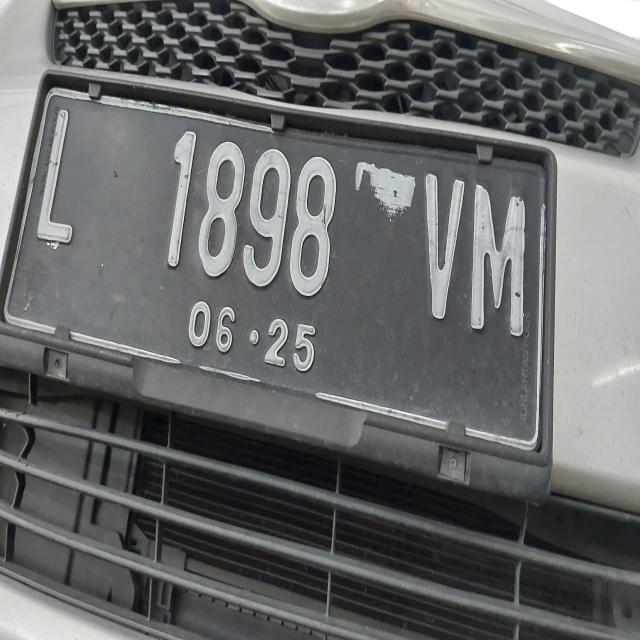1: (162, 102, 202, 292)
8: (286, 134, 344, 302), (197, 115, 246, 294)
9: (243, 118, 293, 306)
L: (34, 78, 78, 262)
M: (466, 167, 536, 365)
V: (408, 154, 468, 357)
